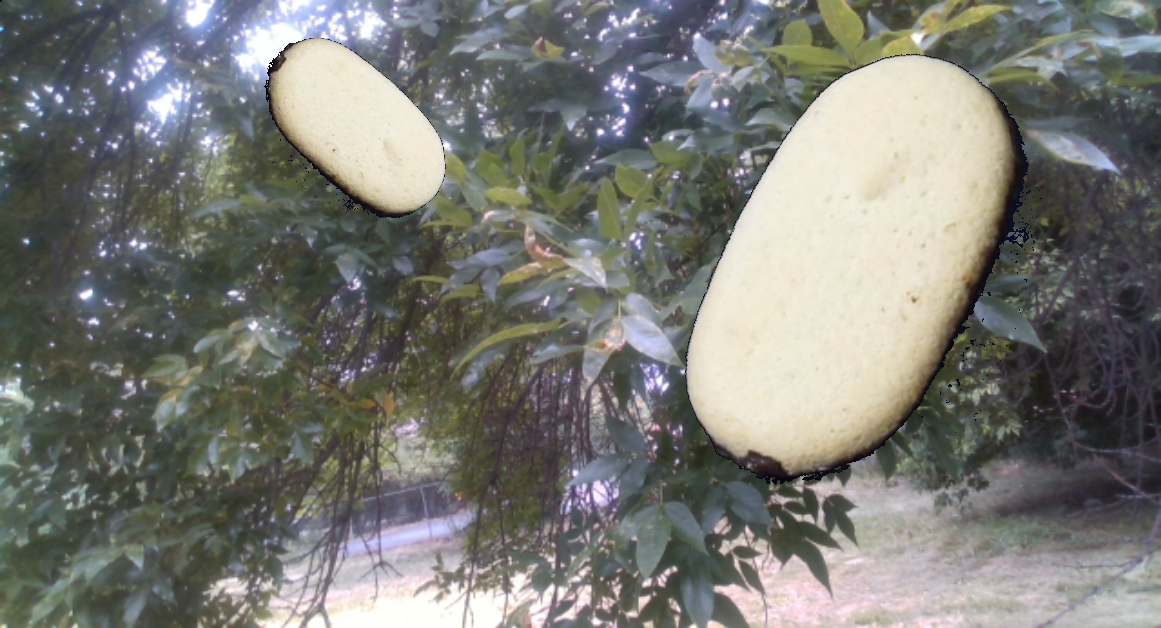test: (597, 19, 1120, 524), (255, 24, 450, 233)
